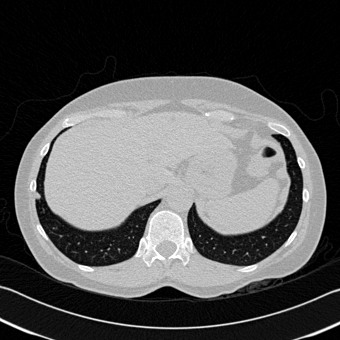nodule: (33, 192, 41, 200)
